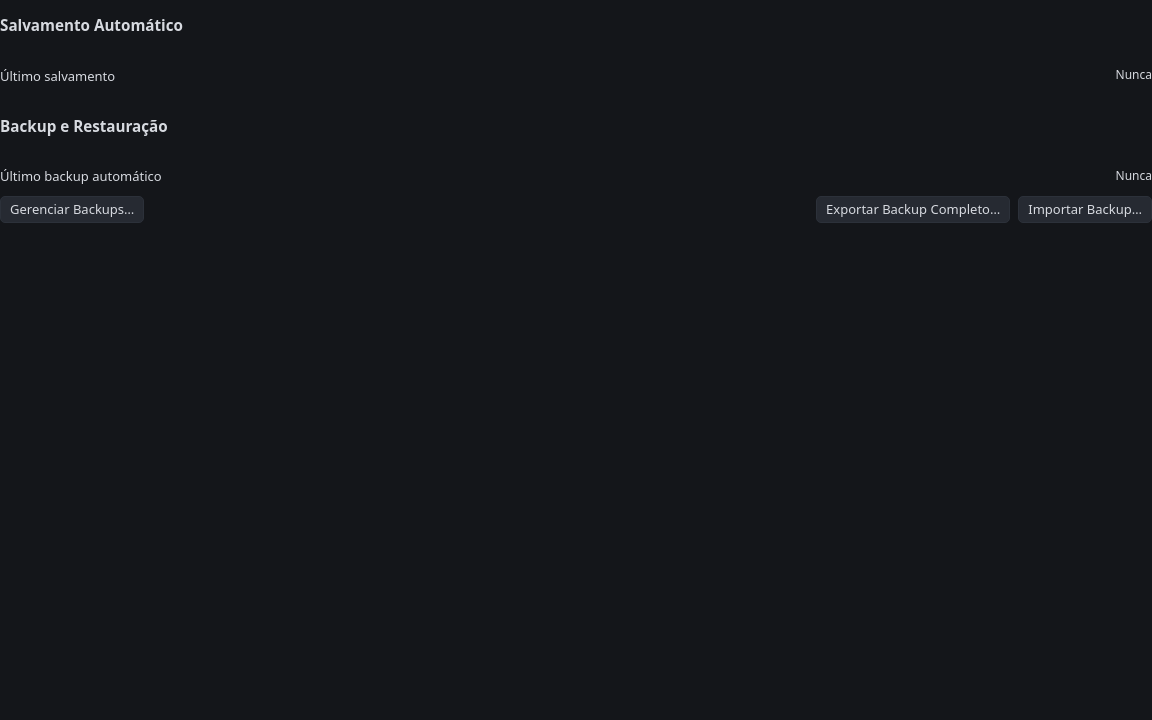
it: Backups sem nada salvo mostra Nunca; o aviso sobre o que o ZIP não leva fica no gerenciador
Click the button "Gerenciar Backups…".
click(72, 210)  # box [0, 196, 144, 223]
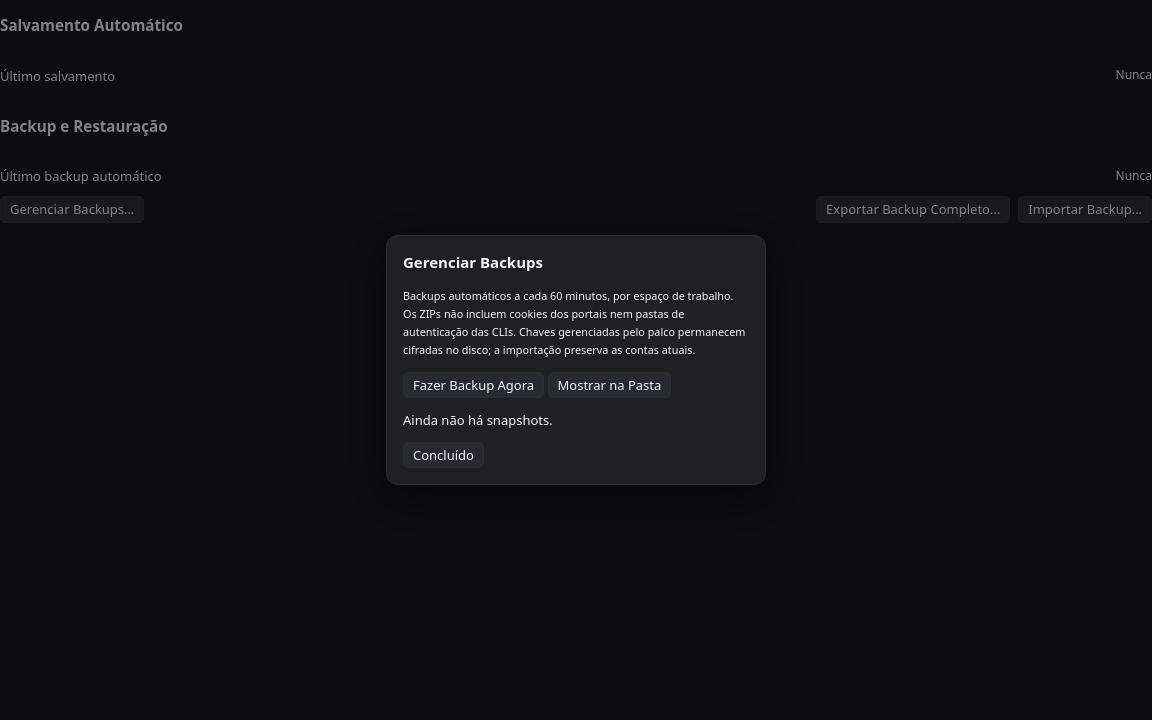
Now the dialog shows "Os ZIPs não incluem", box [403, 306, 745, 357]
Now the dialog shows "a cada 60 minutos", box [403, 288, 734, 303]
